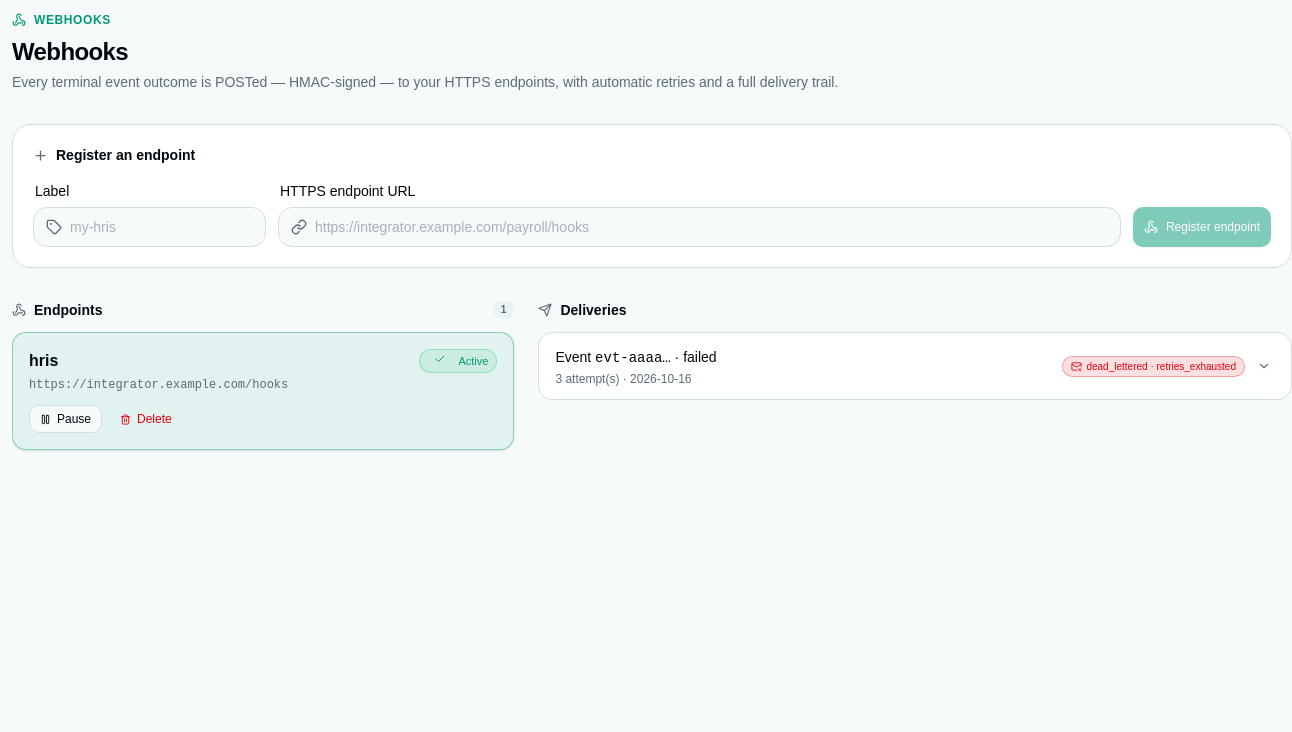
WebhooksView › a dead-lettered delivery opens its attempt trail for debugging
Expected: the element with test id "delivery-d-1" is shown, [538,332,1291,400]
Click the button with test id "delivery-open-d-1" at (636, 358), box [555,347,717,368]
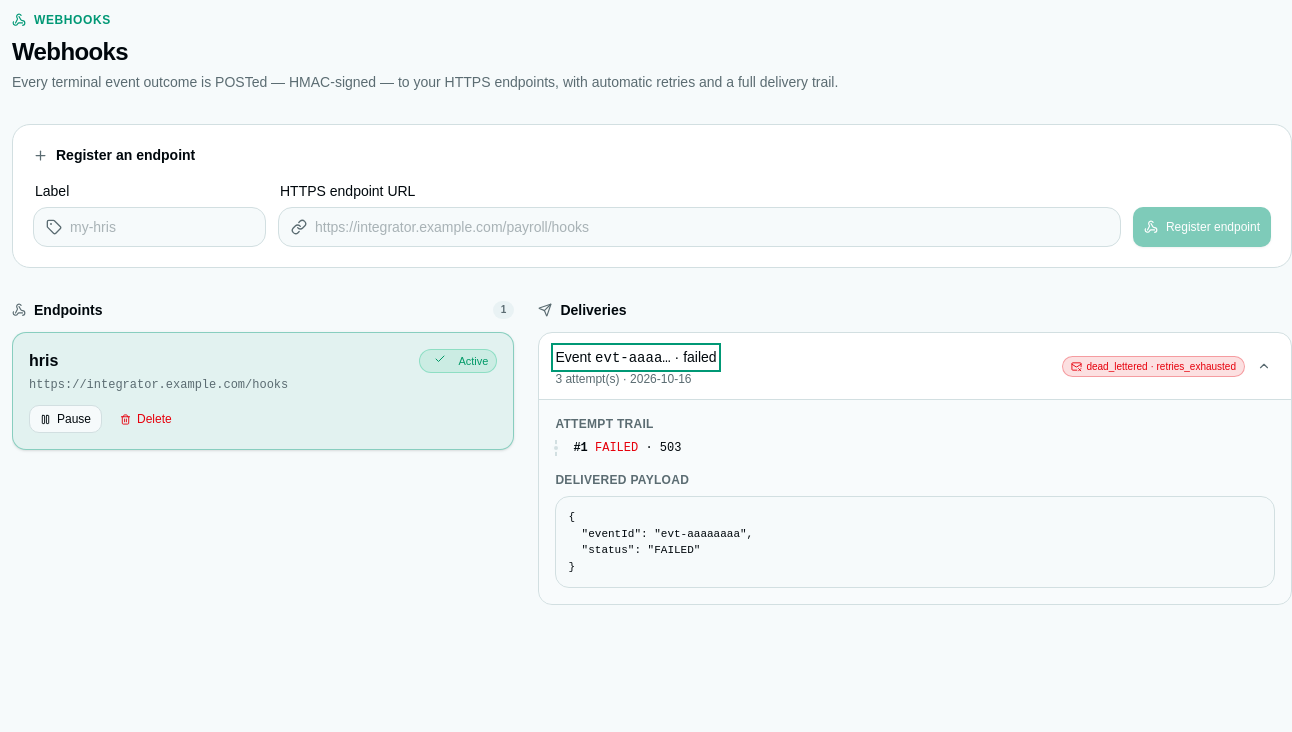
Now the element with test id "delivery-detail" shows "#1 FAILED · 503", box [539,399,1291,604]
